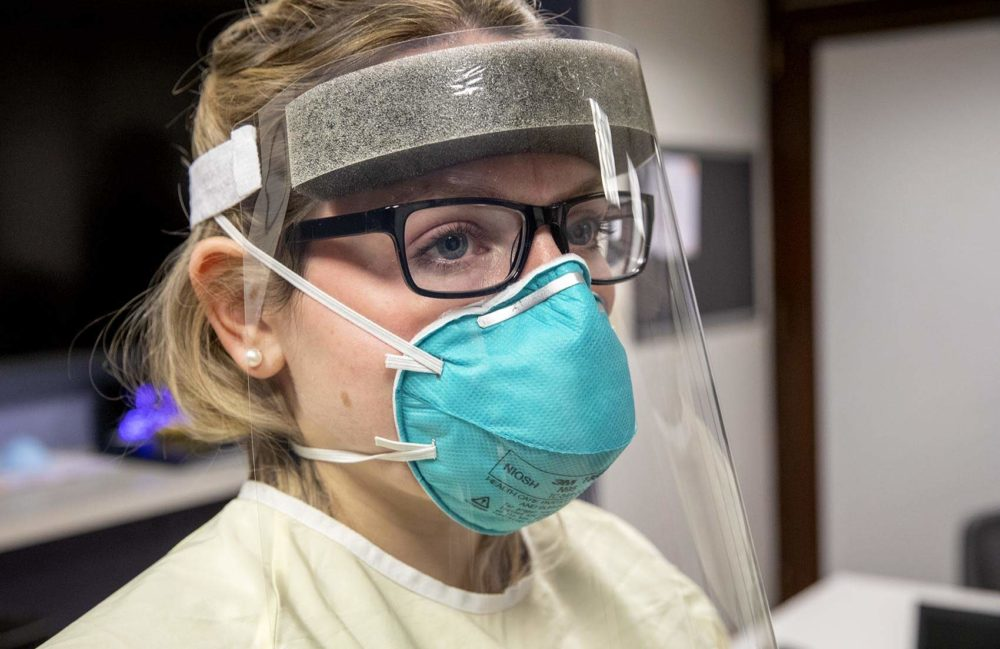n95: (367, 250, 644, 541)
